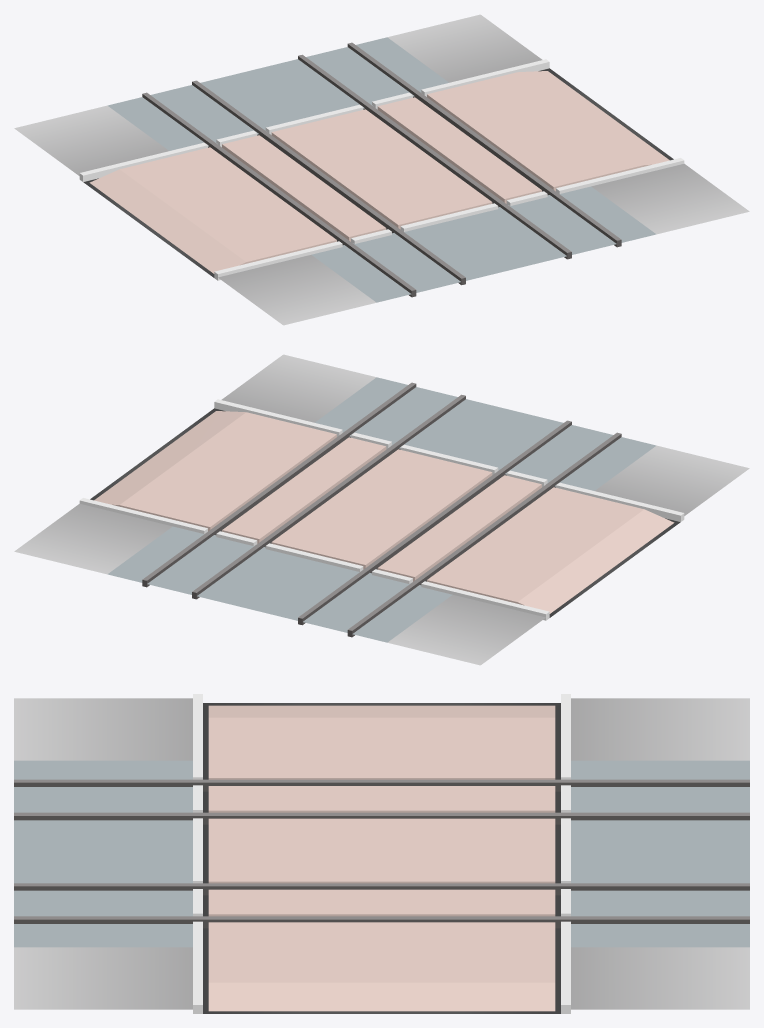
Rendered from tram_railway_006.glb.
3 renders of one model, top to bottom at view 1: azimuth 30°, elevation 25°; view 2: azimuth 150°, elevation 25°; view 3: azimuth 270°, elevation 25°, orthographic. The views are drawn at different scales.
Visible parts, largest first — view 1: tram_railway_006; view 2: tram_railway_006; view 3: tram_railway_006.
Boxes of the visible parts, x1,y1,x2,y2 form: tram_railway_006: [14, 14, 749, 325]; tram_railway_006: [14, 354, 749, 665]; tram_railway_006: [14, 694, 749, 1013].
Bounding box in the file's own units: 15 × 0.2 × 15.
1 material, 1 textured.
